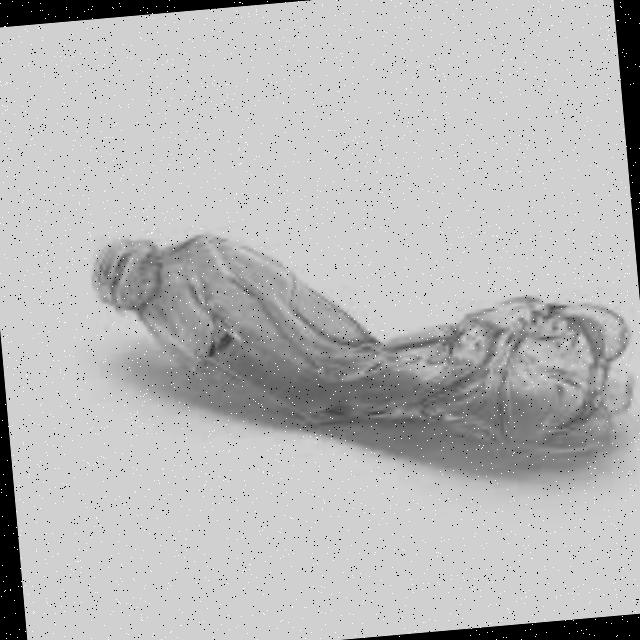Plastic: (83, 141, 640, 536)
